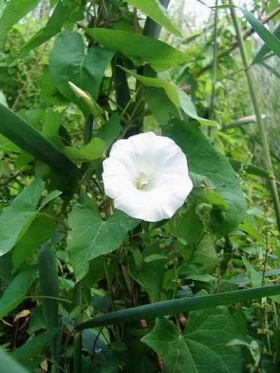haagwinde: (95, 129, 196, 227), (67, 21, 202, 90), (60, 196, 142, 284)
